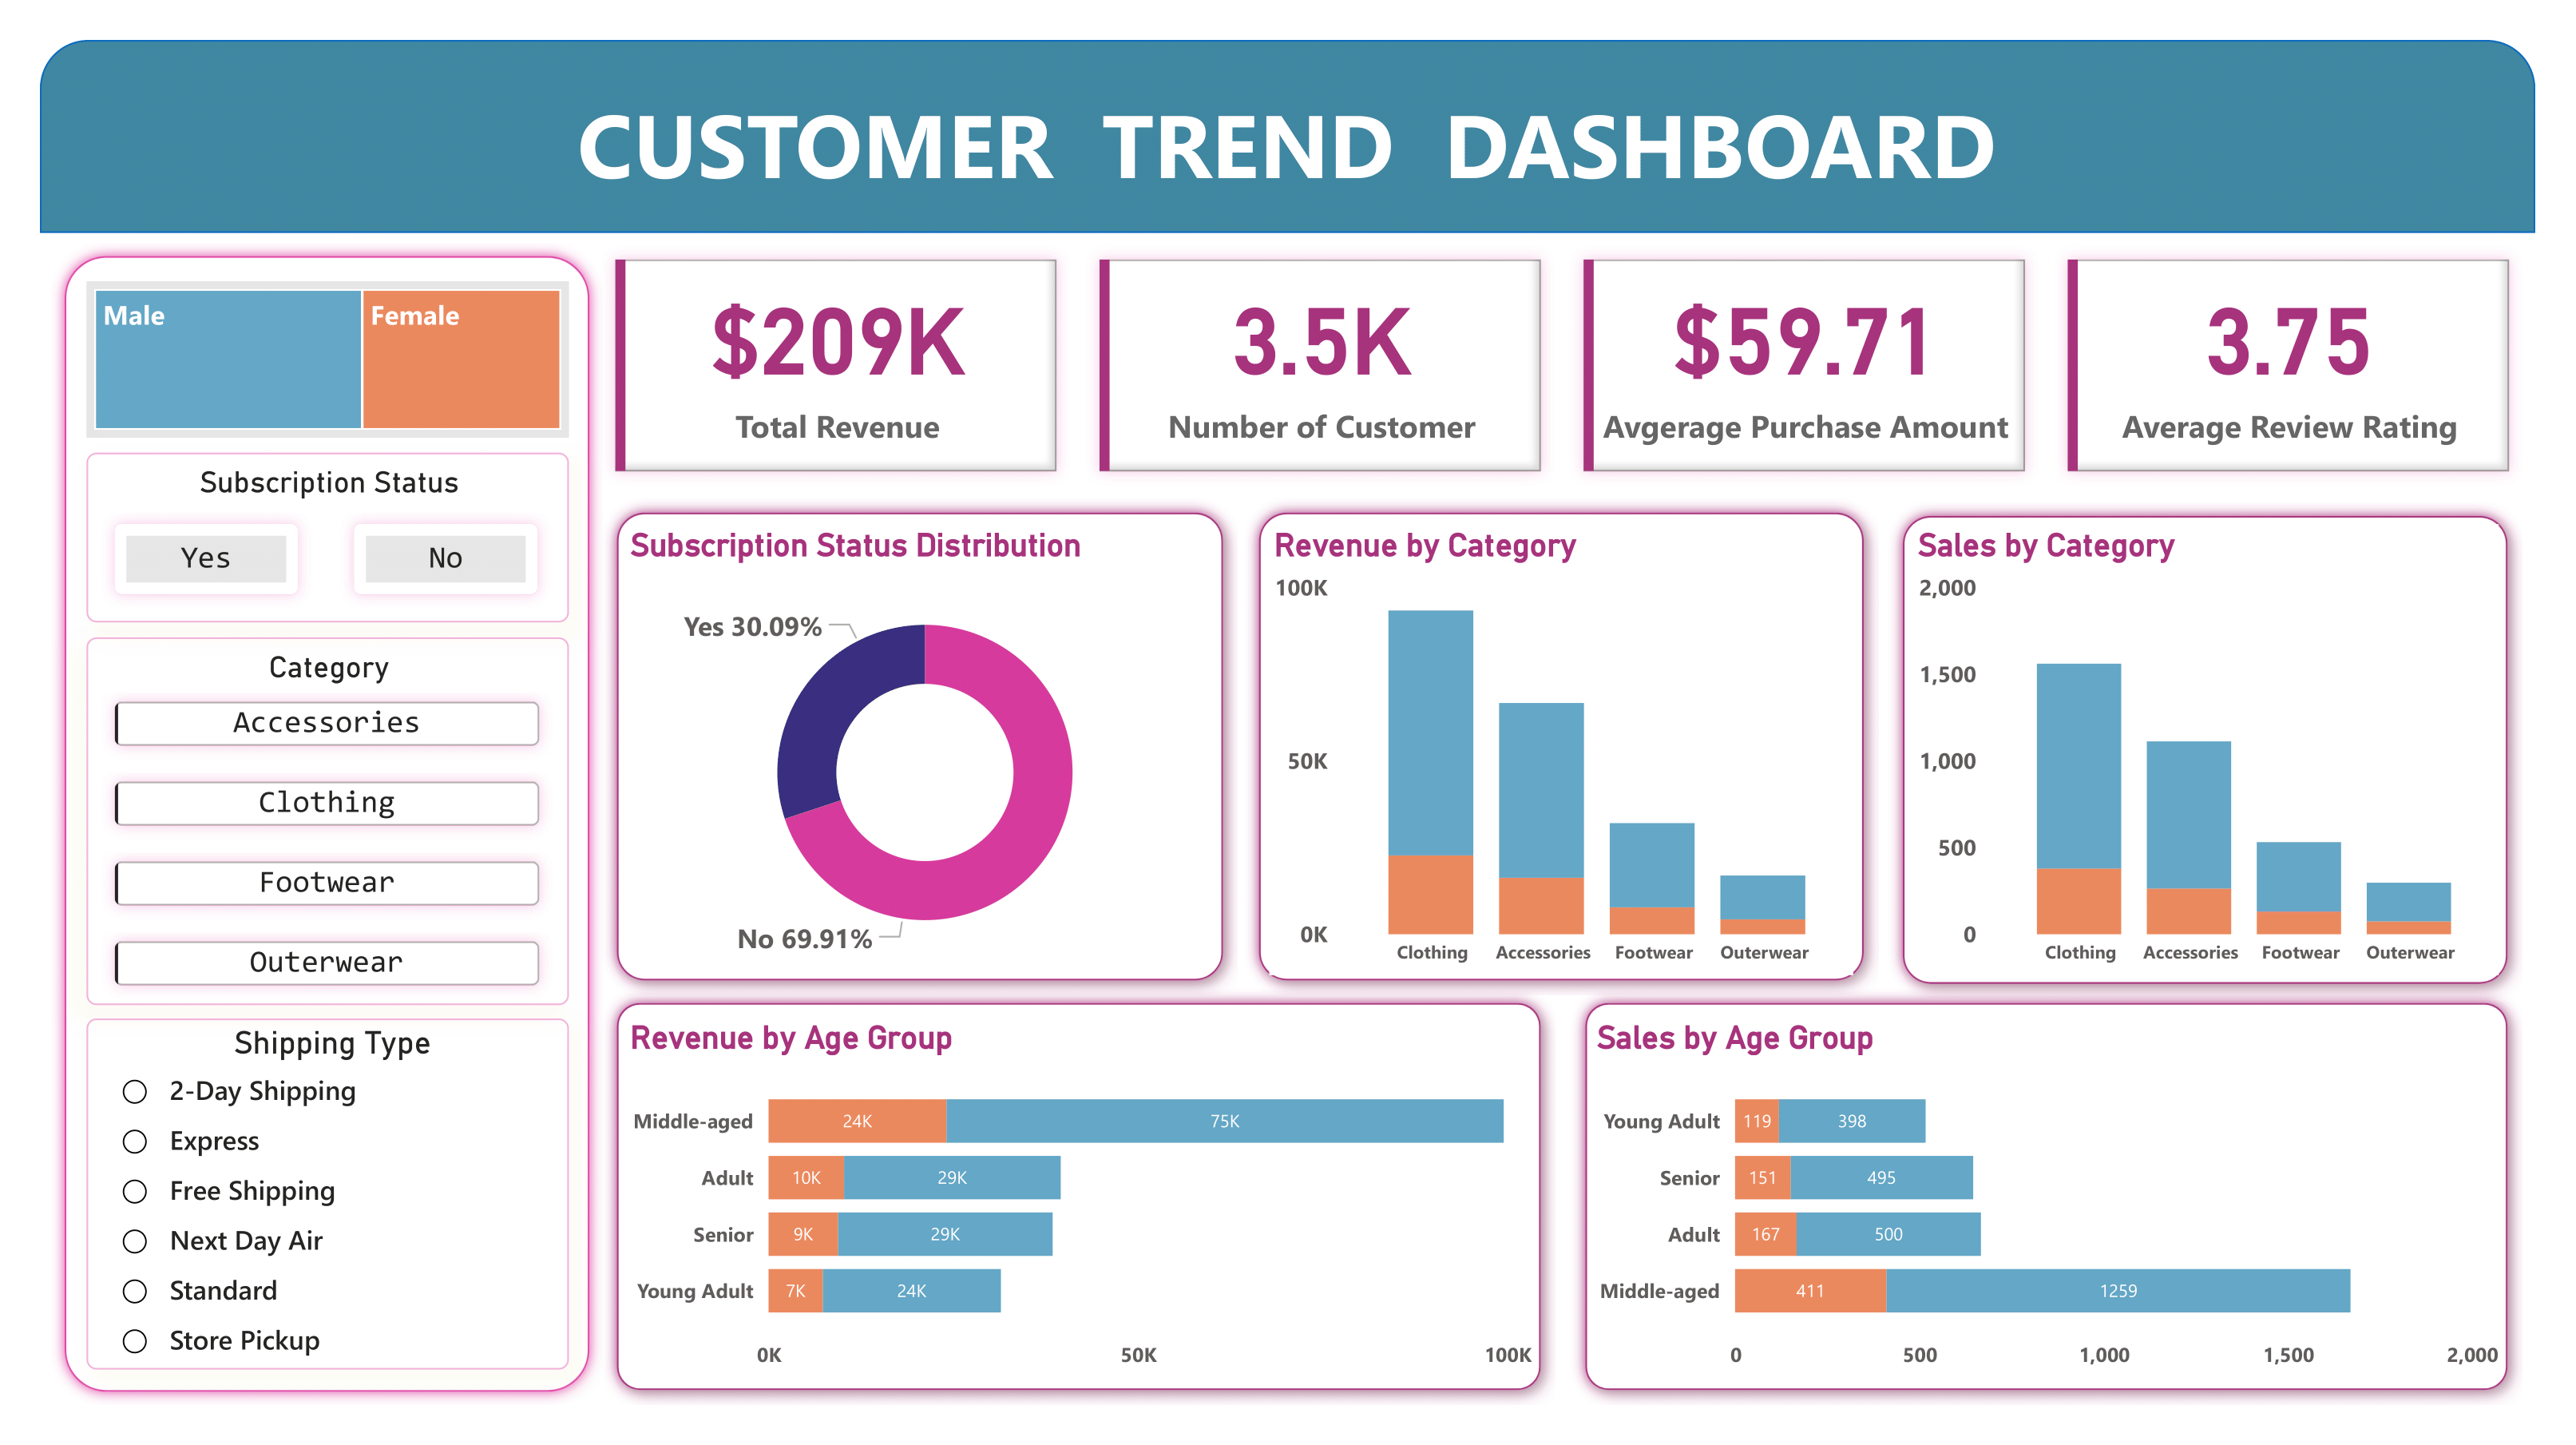

The page's visual inventory and layout, read from the dashboard file:
{"tool":"powerbi","page":{"name":"Page 1","canvas":[1500,820],"ordinal":0},"visuals":[{"type":"cardVisual","fields":{"Data":["public customer.Total Revenue","public customer.Number of Customer","public customer.Average Purchase Amount","public customer.Average Review Rating"]},"box":[329.8,116,1169.6,159.3],"z":0},{"type":"shape","box":[0,0,1500.3,115.8],"z":1000},{"type":"textbox","box":[0,19.6,1499.4,89.4],"z":2000},{"type":"shape","box":[338.2,275.3,381.5,299],"z":3000},{"type":"donutChart","title":"Subscription Status Distribution","fields":{"Category":["public customer.subscription_status"],"Y":["CountNonNull(public customer.customer_id)"]},"box":[352.1,289.3,357.7,272.5],"z":4000},{"type":"shape","box":[723.9,275.3,381.5,299],"z":5000},{"type":"shape","box":[1110.9,276.7,381.5,299],"z":6000},{"type":"columnChart","title":"Revenue by Category","fields":{"Category":["public customer.category"],"Y":["Sum(public customer.purchase_amount)"],"Series":["public customer.gender"]},"box":[739.2,290.7,350.8,271.1],"z":7000},{"type":"columnChart","title":"Sales by Category","fields":{"Category":["public customer.category"],"Y":["CountNonNull(public customer.customer_id)"],"Series":["public customer.gender"]},"box":[1126.3,290.7,352.1,271.1],"z":8000},{"type":"shape","box":[338.2,570.1,573,250.1],"z":9000},{"type":"shape","box":[919.5,570.1,572.9,250.1],"z":10000},{"type":"barChart","title":"Sales by Age Group","fields":{"Category":["public customer.age_group"],"Y":["CountNonNull(public customer.customer_id)"],"Series":["public customer.gender"]},"box":[933.5,586.9,545,218],"z":11000},{"type":"barChart","title":"Revenue by Age Group","fields":{"Category":["public customer.age_group"],"Series":["public customer.gender"],"Y":["Sum(public customer.purchase_amount)"]},"box":[352.1,586.9,545,218],"z":12000},{"type":"shape","box":[6.7,121.7,331.7,698.3],"z":13000},{"type":"treemap","fields":{"Group":["public customer.gender"],"Values":["Sum(public customer.customer_id)"]},"box":[28.1,144.9,289.9,94.3],"z":14000},{"type":"advancedSlicerVisual","fields":{"Values":["public customer.subscription_status"]},"box":[28.1,247.7,289.9,102.7],"z":15000},{"type":"advancedSlicerVisual","title":"Category","fields":{"Values":["public customer.category"]},"box":[28.1,358.8,289.9,220.9],"z":16000},{"type":"listSlicer","title":"Shipping Type","fields":{"Values":["public customer.shipping_type"]},"box":[28.2,588.2,290,210.9],"z":17000}]}

Visuals, with their boxes in screenshot pixels (x1, y1, x2, y2):
cardVisual - public customer.Total Revenue x public customer.Number of Customer: select_region(589, 233, 2535, 498)
shape: select_region(40, 40, 2536, 232)
textbox: select_region(40, 73, 2535, 221)
shape: select_region(603, 498, 1238, 996)
"Subscription Status Distribution" donutChart: select_region(626, 522, 1221, 975)
shape: select_region(1245, 498, 1880, 996)
shape: select_region(1888, 501, 2523, 998)
"Revenue by Category" columnChart: select_region(1270, 524, 1854, 975)
"Sales by Category" columnChart: select_region(1914, 524, 2500, 975)
shape: select_region(603, 989, 1556, 1405)
shape: select_region(1570, 989, 2523, 1405)
"Sales by Age Group" barChart: select_region(1593, 1017, 2500, 1380)
"Revenue by Age Group" barChart: select_region(626, 1017, 1533, 1380)
shape: select_region(51, 243, 603, 1405)
treemap - public customer.gender x Sum(public customer.customer_id): select_region(87, 281, 569, 439)
advancedSlicerVisual - public customer.subscription_status: select_region(87, 452, 569, 623)
"Category" advancedSlicerVisual: select_region(87, 637, 569, 1005)
"Shipping Type" listSlicer: select_region(87, 1019, 569, 1370)
